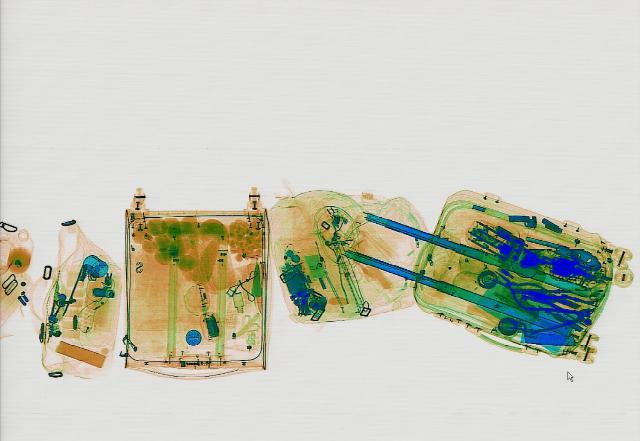Pliers: (480, 265, 552, 310)
